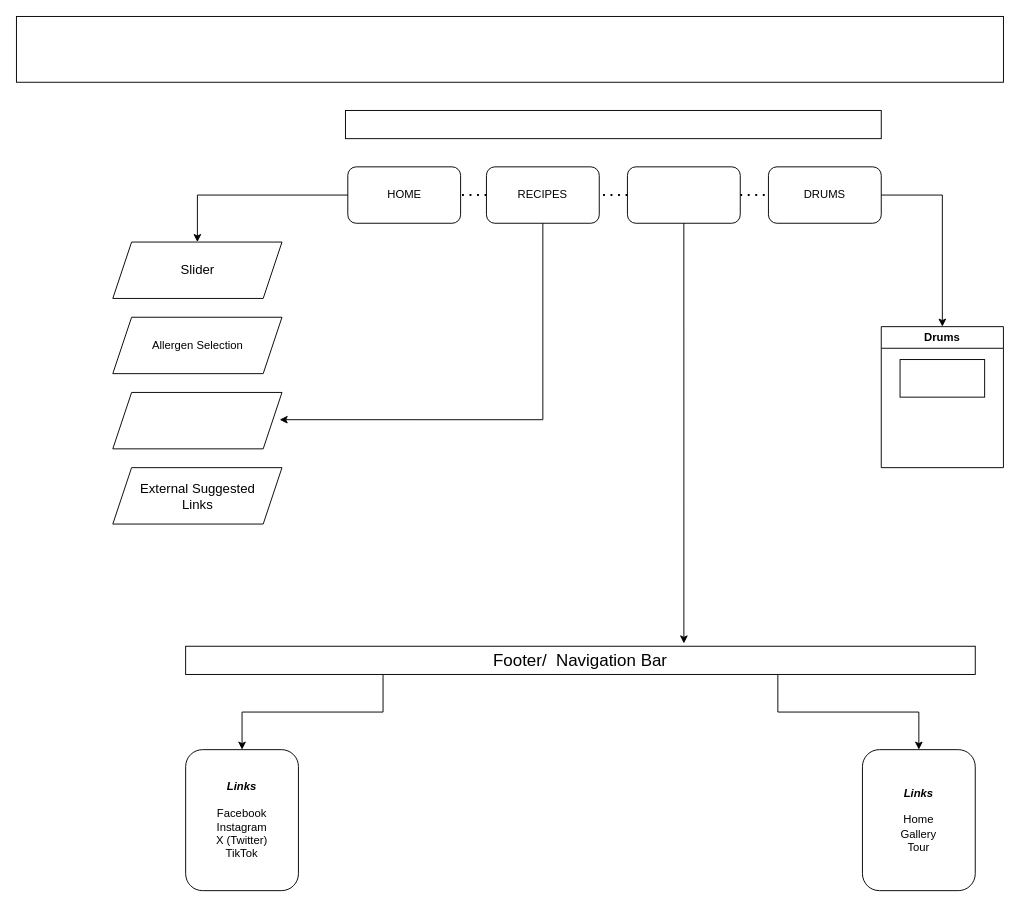
This 1020x907 diagram has some shape labels left out. Here are the shapes that lost their labels. From the top down, the box of each, then its label:
(16, 16, 1003, 82): Recipe Finder
(345, 110, 881, 139): Logo / Navigation Bar
(627, 166, 740, 223): CONTACT
(899, 359, 985, 397): Images
(112, 392, 282, 449): Menu Cards / Recipes
